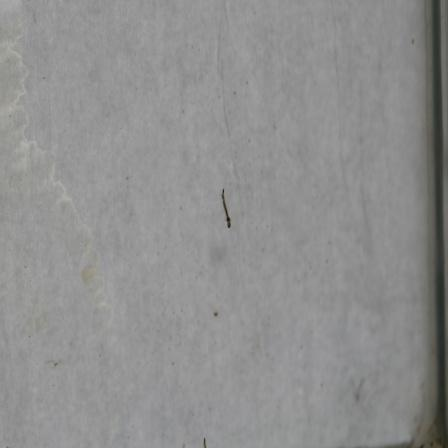Jentik-Nyamuk: (216, 184, 234, 232)
